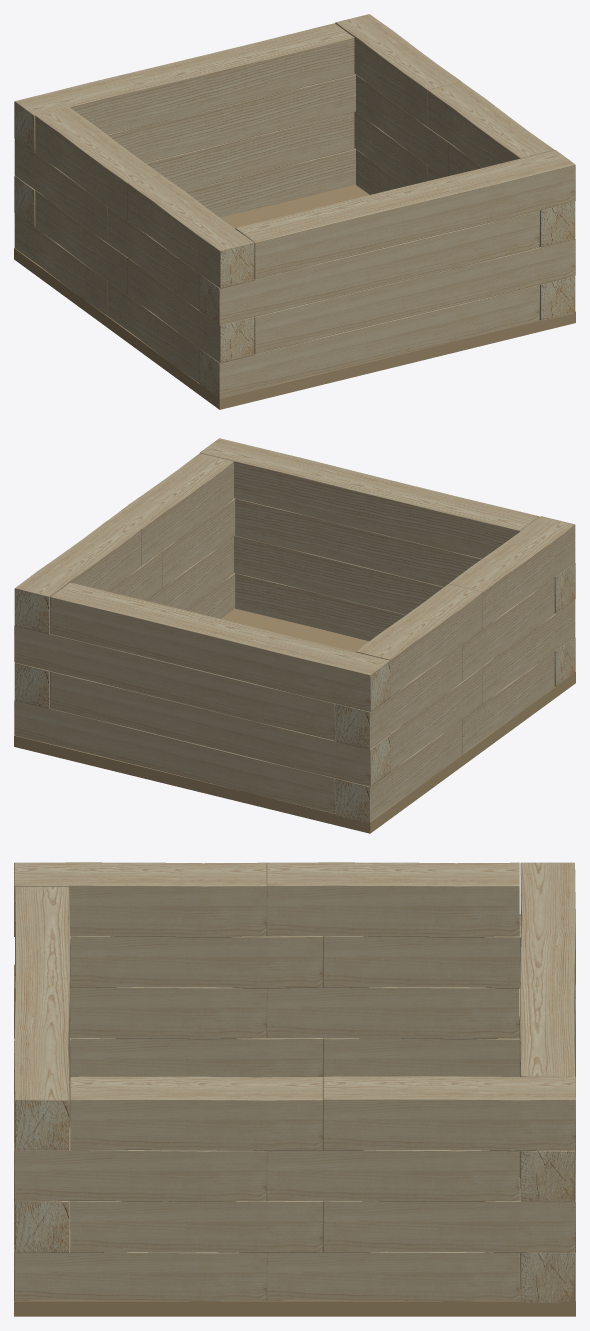
File: hochbeet.gltf
The picture shows the model from 3 angles, top to bottom: view 1: azimuth 30°, elevation 25°; view 2: azimuth 150°, elevation 25°; view 3: azimuth 270°, elevation 25°; orthographic projection. The views are drawn at different scales.
Visible parts, largest first — view 1: W_2_3, W_1_4, W_1_3, W_1_1, W_2_2, Bottom, W_2_4, W_1_2, L_1_8, L_1_6, L_2_5, L_2_1 (+12 smaller); view 2: W_1_4, W_2_3, W_1_2, W_2_4, W_2_1, W_1_3, Bottom, W_2_2, L_1_8, L_1_6, L_2_1, L_2_5 (+12 smaller); view 3: L_1_6, L_2_5, L_2_1, L_1_8, W_2_3, L_1_5, L_2_8, L_2_7, L_1_4, L_2_4, L_1_2, L_1_3 (+10 smaller).
Part boxes in pixels (<box>): W_2_3: <box>235,150,575,279</box>; W_1_4: <box>14,23,354,152</box>; W_1_3: <box>199,210,539,325</box>; W_1_1: <box>199,285,539,398</box>; W_2_2: <box>254,239,575,354</box>; Bottom: <box>14,184,575,409</box>; W_2_4: <box>107,74,355,162</box>; W_1_2: <box>14,112,354,227</box>; L_1_8: <box>127,175,254,288</box>; L_1_6: <box>35,107,161,220</box>; L_2_5: <box>335,14,461,126</box>; L_2_1: <box>428,82,554,167</box>; W_1_4: <box>50,582,390,711</box>; W_2_3: <box>200,438,539,558</box>; W_1_2: <box>50,671,390,786</box>; W_2_4: <box>14,626,335,740</box>; W_2_1: <box>14,700,335,813</box>; W_1_3: <box>235,498,575,613</box>; Bottom: <box>14,608,575,833</box>; W_2_2: <box>234,536,443,614</box>; L_1_8: <box>449,516,575,629</box>; L_1_6: <box>356,584,482,696</box>; L_2_1: <box>108,453,233,565</box>; L_2_5: <box>14,520,141,634</box>; L_1_6: <box>267,862,519,937</box>; L_2_5: <box>323,1076,575,1151</box>; L_2_1: <box>70,1076,322,1150</box>; L_1_8: <box>14,862,266,937</box>; W_2_3: <box>14,886,70,1150</box>; L_1_5: <box>14,1127,266,1201</box>; L_2_8: <box>70,1201,322,1252</box>; L_2_7: <box>70,936,322,988</box>; L_1_4: <box>267,987,519,1039</box>; L_2_4: <box>323,1178,575,1252</box>; L_1_2: <box>267,1150,519,1201</box>; L_1_3: <box>14,1229,266,1301</box>.
Bounding box in the file's own units: 100 × 42.56 × 100.
